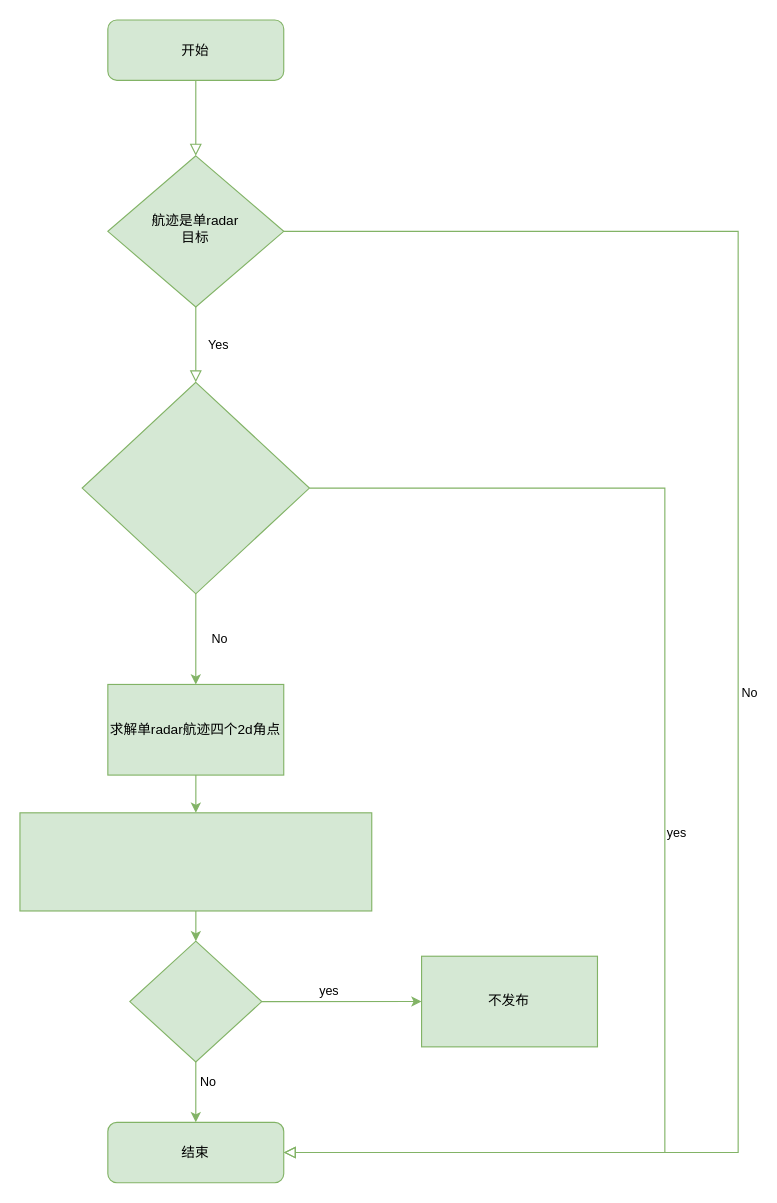
This 777x1203 diagram has some shape labels left out. The centre of each missing label's shape, as x and y in pixels:
"|纵向距离|大于10 或者纵向距离小于0并且|横向距离| < 1.8" goes at (x=195, y=487).
"计算航迹四个2d角点 计算与航迹的x、y方向遮挡率 遮挡率计算：单radar与融合航迹在坐标轴上的重叠长度 /融合航迹在坐标轴的投影" goes at (x=195, y=861).
"遮挡率超过0.3" goes at (x=195, y=1001).
